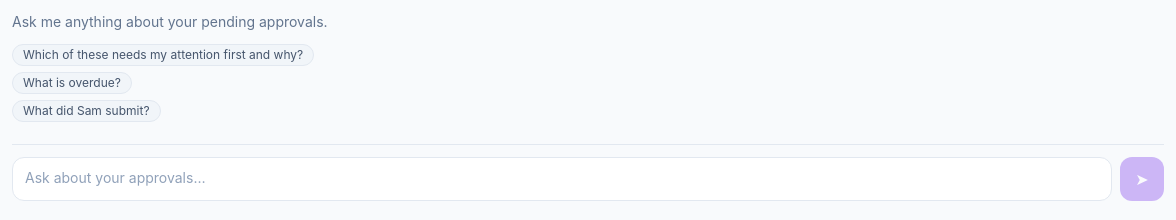
Scenario: <ChatView /> › refuses to render a stream event that breaks the contract
The image size is (1176, 220).
Type "hello" into the text box named "message".
click(562, 179); type("hello")  # box [12,157,1112,201]
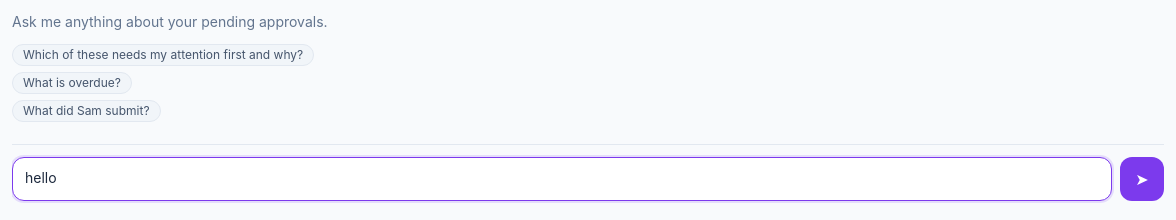
Click the button named "send".
click(1142, 179)  # box [1120,157,1164,201]
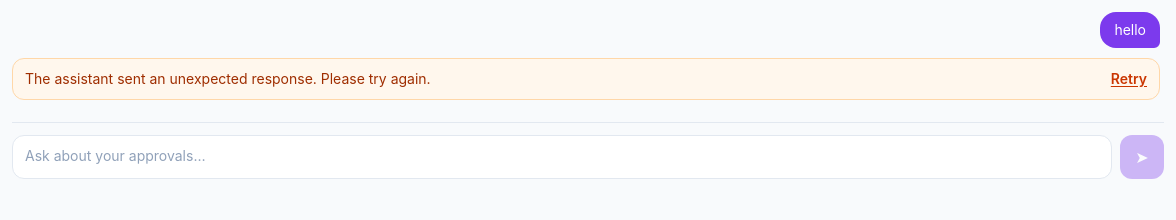
Check: the message shows "unexpected response", box [25,70,431,87]
